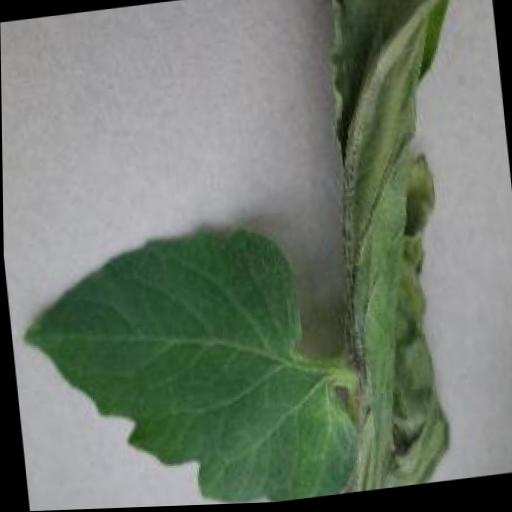Healthy: (12, 212, 362, 512)
Late Blight: (315, 0, 512, 495)
